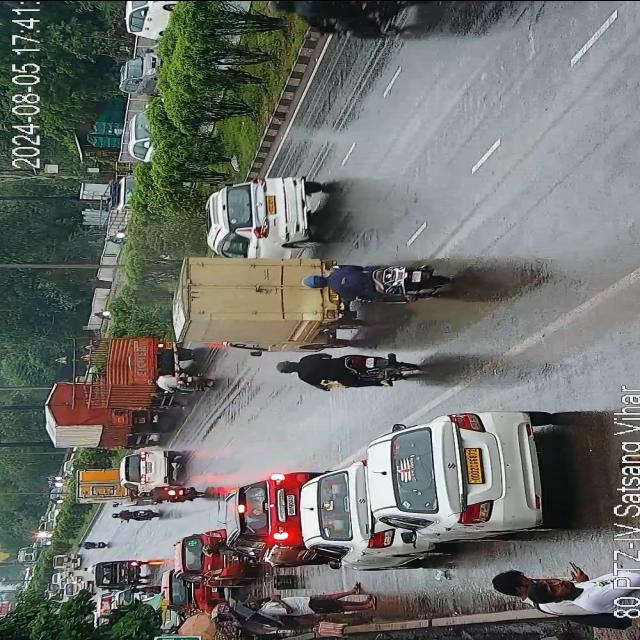2-wheelers: (301, 258, 448, 310), (276, 0, 404, 40), (276, 352, 414, 384), (143, 479, 201, 505), (144, 374, 214, 388), (52, 544, 84, 573), (196, 538, 236, 556), (112, 506, 160, 520), (72, 536, 113, 548), (78, 536, 110, 548)
auto: (90, 558, 148, 590)
car: (366, 408, 544, 542), (298, 466, 416, 562), (210, 169, 328, 253), (230, 468, 306, 552), (173, 526, 250, 584), (121, 447, 182, 493), (154, 572, 216, 614), (126, 0, 186, 42), (118, 50, 160, 94), (128, 106, 160, 156)
pedestrian: (488, 555, 580, 613), (239, 593, 379, 615), (630, 452, 640, 476)
truck: (170, 250, 360, 356), (42, 376, 163, 449), (106, 333, 194, 412), (100, 173, 138, 233), (75, 462, 123, 504)
